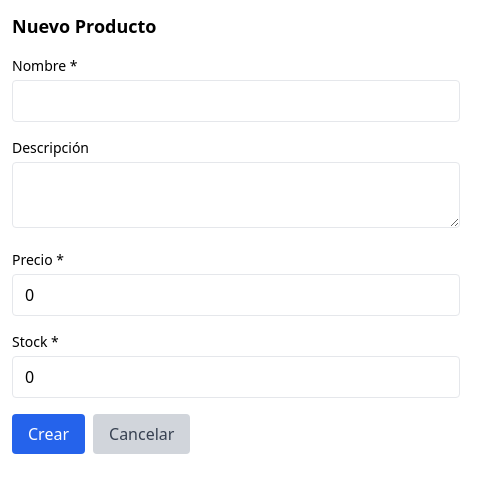
it: ProductoForm › muestra error si precio es <= 0
Type "Producto" into the field at (236, 101), box top-left (12, 80), bottom-right (460, 122)
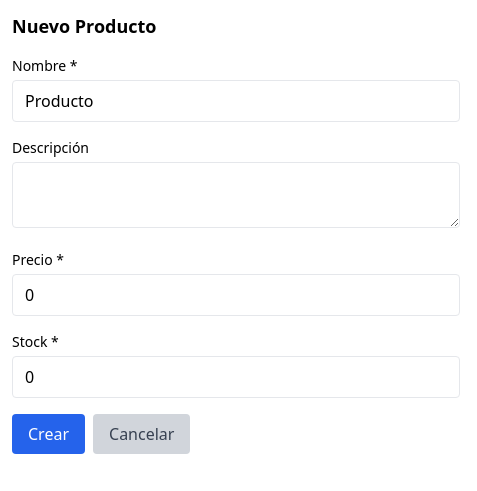
Submit the form
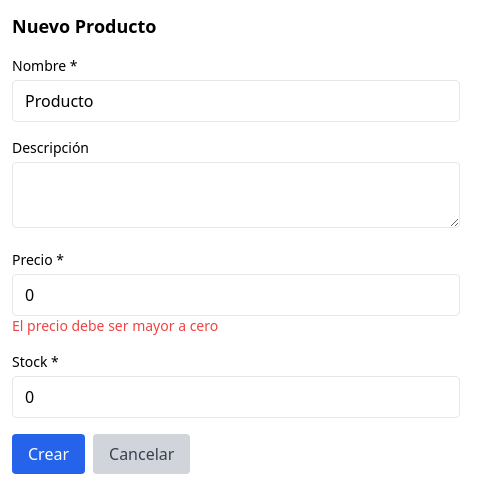
Check: the form shows "El precio debe ser mayor a cero", box top-left (12, 316), bottom-right (218, 335)
